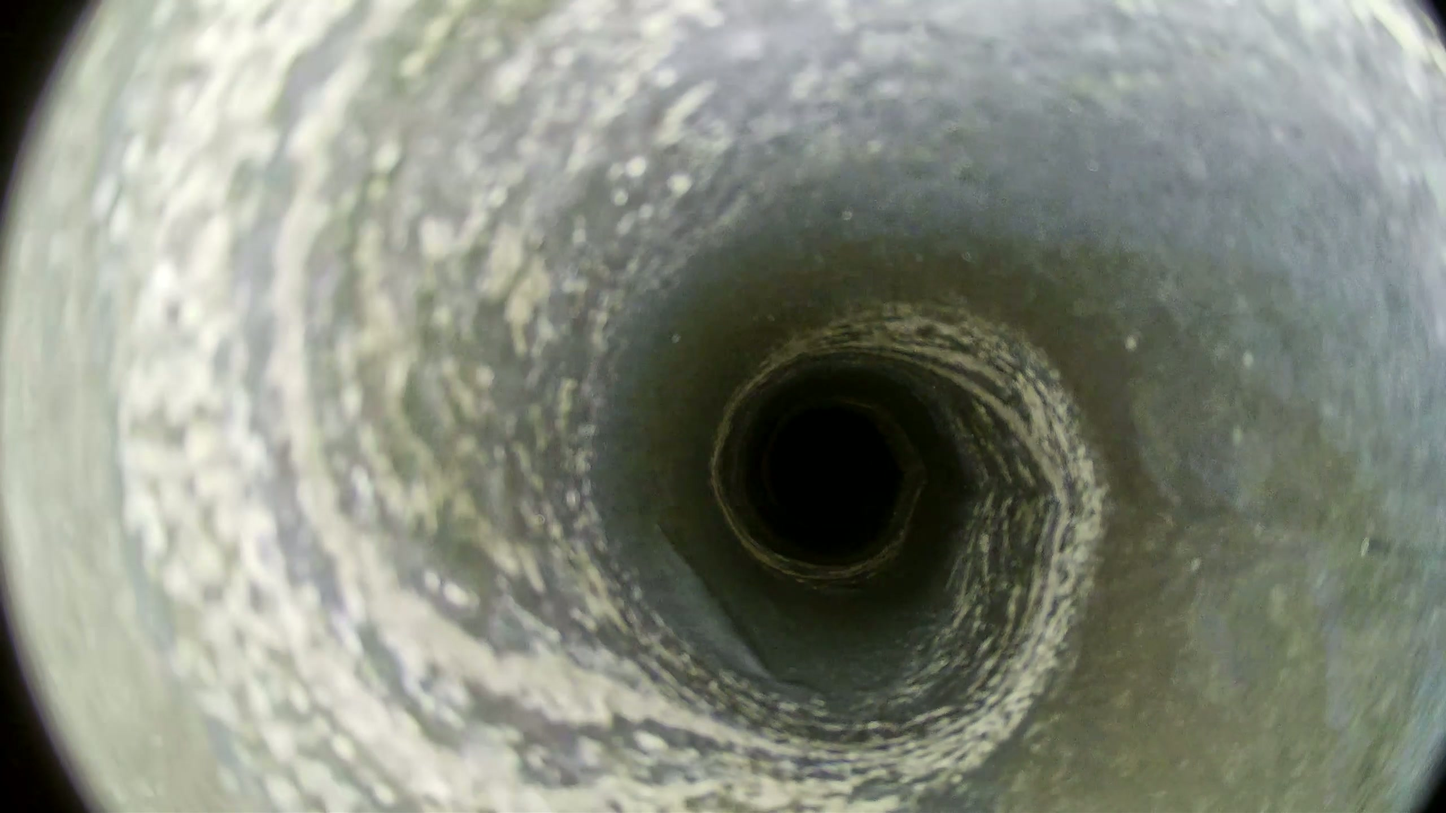hole: (771, 410, 890, 529)
